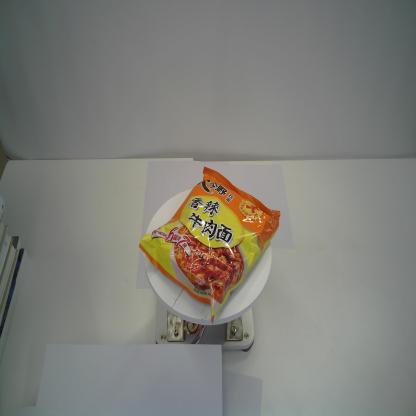Instant Noodles: (138, 165, 281, 325)
